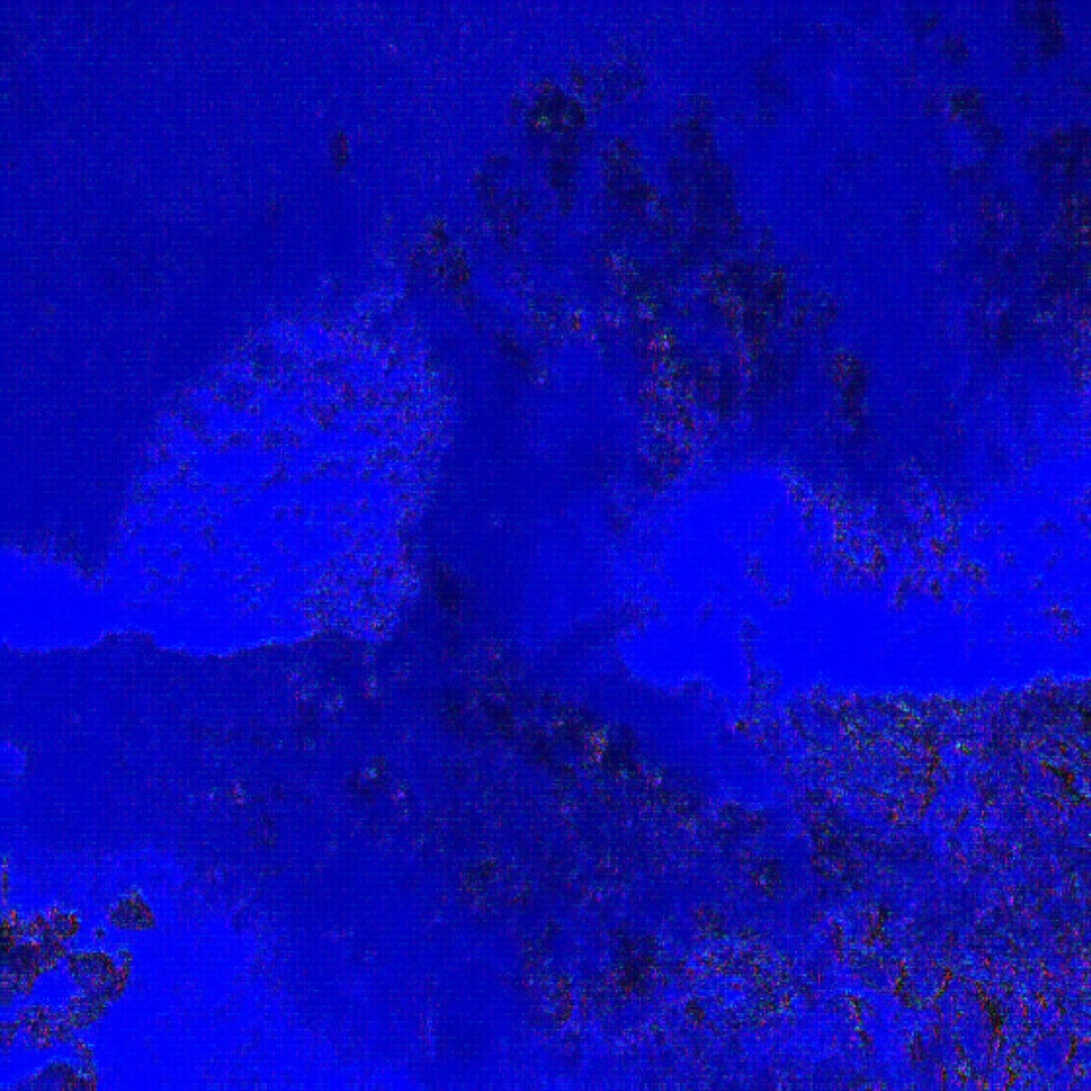rip_current: (320, 161, 715, 716)
